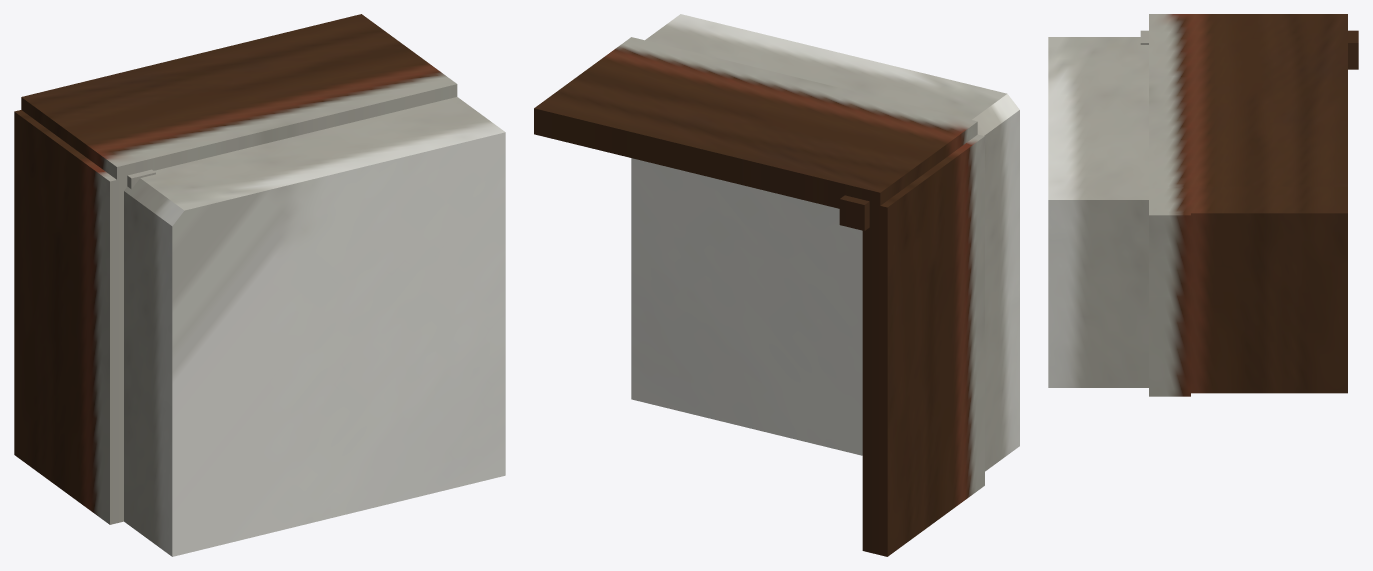
File: pz_bed_bedding_01_large_modern_0_1.obj
3 views of the same model, side by side, from view 1: azimuth 30°, elevation 25°; view 2: azimuth 150°, elevation 25°; view 3: azimuth 270°, elevation 25° (orthographic). The views are drawn at different scales.
Size of the model in its own units: 0.995 by 0.975 by 0.74.
1 material, 1 textured.
